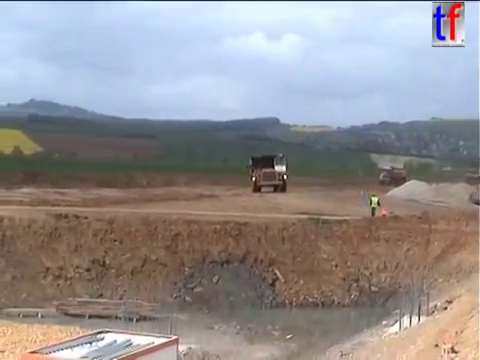truck: (245, 151, 291, 193), (389, 165, 407, 186), (377, 165, 395, 185), (463, 167, 480, 187)
worker: (367, 191, 381, 220)
